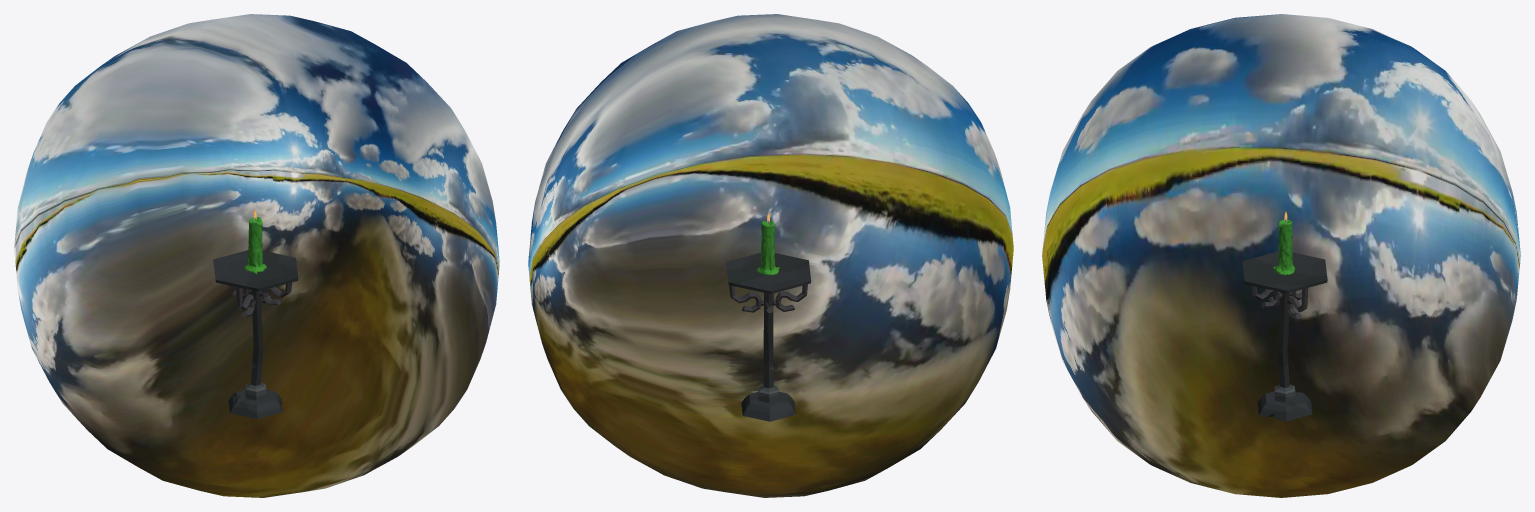
The model's file is XCandleAnimatedFlameTall.glb.
3 views of the same model, side by side, from view 1: azimuth 30°, elevation 25°; view 2: azimuth 150°, elevation 25°; view 3: azimuth 270°, elevation 25° (orthographic).
Parts seen in each view (by area): view 1: Room, Candle_Stand, XBase; view 2: Room, Candle_Stand, XBase; view 3: Room, Candle_Stand, XBase.
Part boxes in pixels (box(x1,y1,x2,y2)): Room: box(14, 14, 499, 497); Candle_Stand: box(213, 250, 298, 419); XBase: box(244, 217, 266, 274); Room: box(528, 14, 1013, 497); Candle_Stand: box(726, 252, 811, 421); XBase: box(756, 221, 779, 275); Room: box(1042, 14, 1520, 497); Candle_Stand: box(1242, 251, 1327, 421); XBase: box(1273, 219, 1295, 275).
Size of the model in its own units: 24.44 by 24.44 by 24.44.
4 materials, 4 textured.
